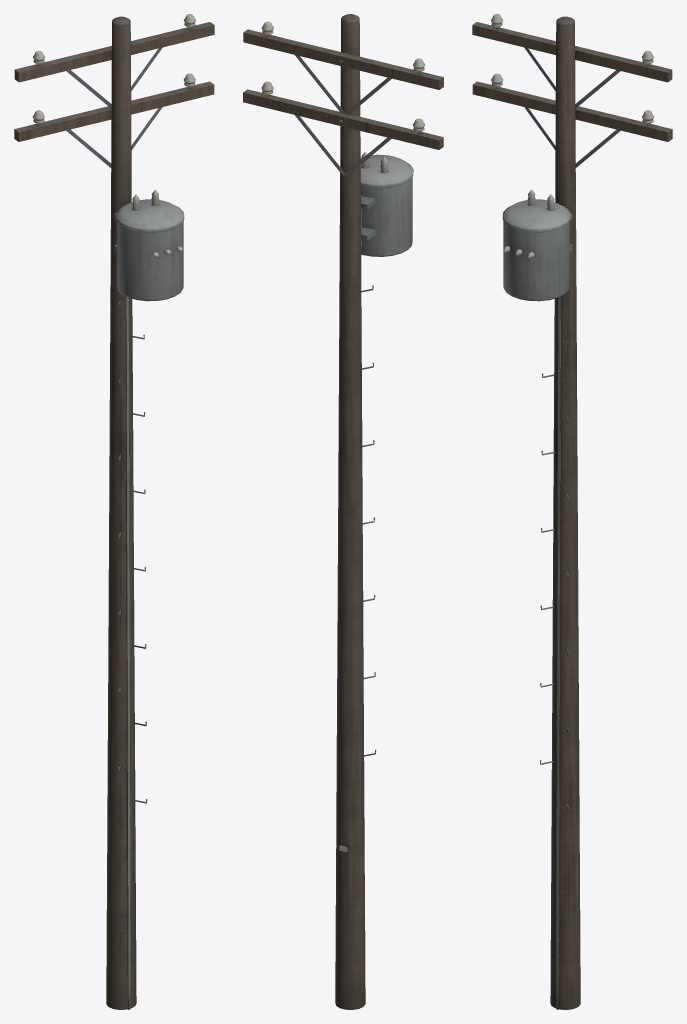
Rendered from utilityPole-v2.glb.
3 views of the same model, side by side, from view 1: azimuth 30°, elevation 25°; view 2: azimuth 150°, elevation 25°; view 3: azimuth 330°, elevation 25° (orthographic).
Visible parts, largest first — view 1: utilityPole; view 2: utilityPole; view 3: utilityPole.
Boxes of the visible parts, x1,y1,x2,y2 form: utilityPole: (14,14,214,1009); utilityPole: (243,14,443,1009); utilityPole: (472,14,672,1009).
Bounding box in the file's own units: 2.44 × 11.73 × 1.26.
Materials: 1 (1 with a texture image).
